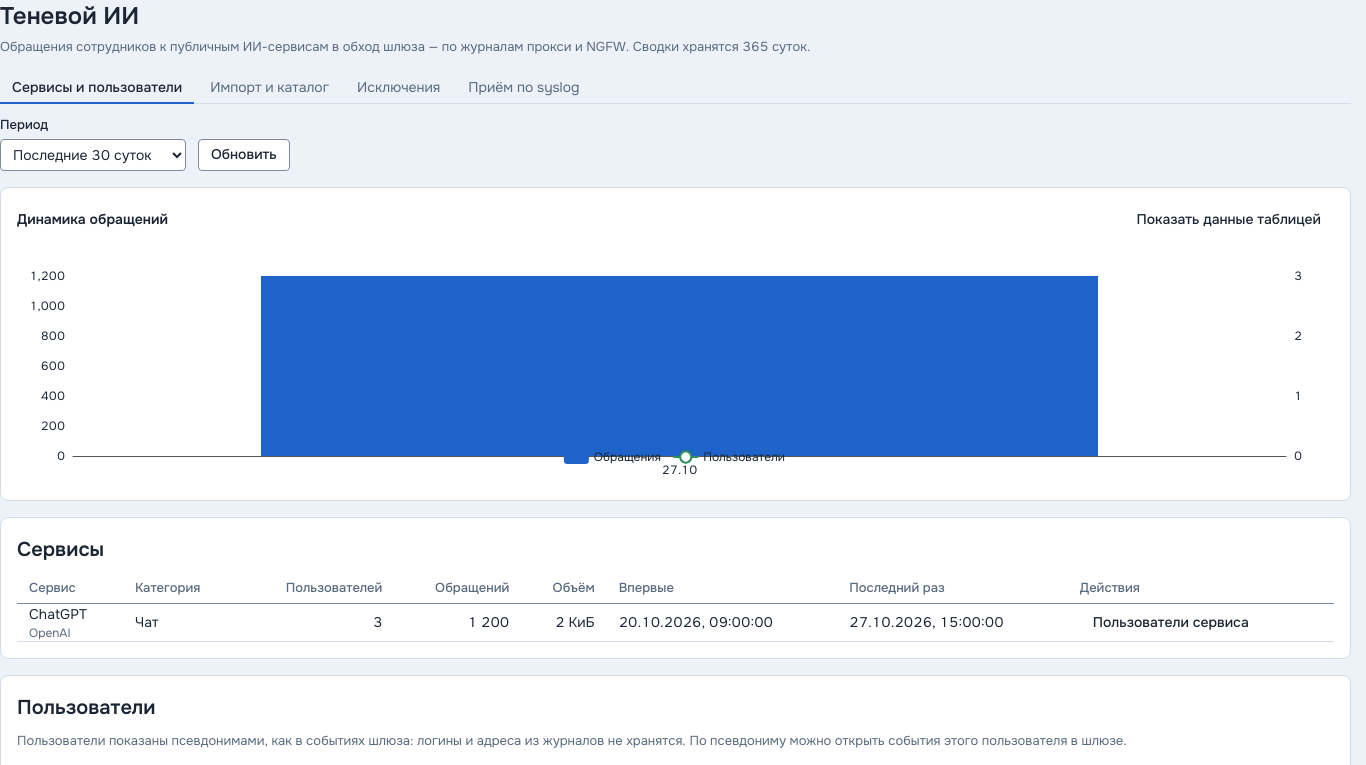
Scenario: экран «Теневой ИИ» › без права исключений нет кнопок исключения, импорт доступен
Press the mouse on the tab "Импорт и каталог" at (270, 88), box x1=198 y1=72 x2=341 y2=104
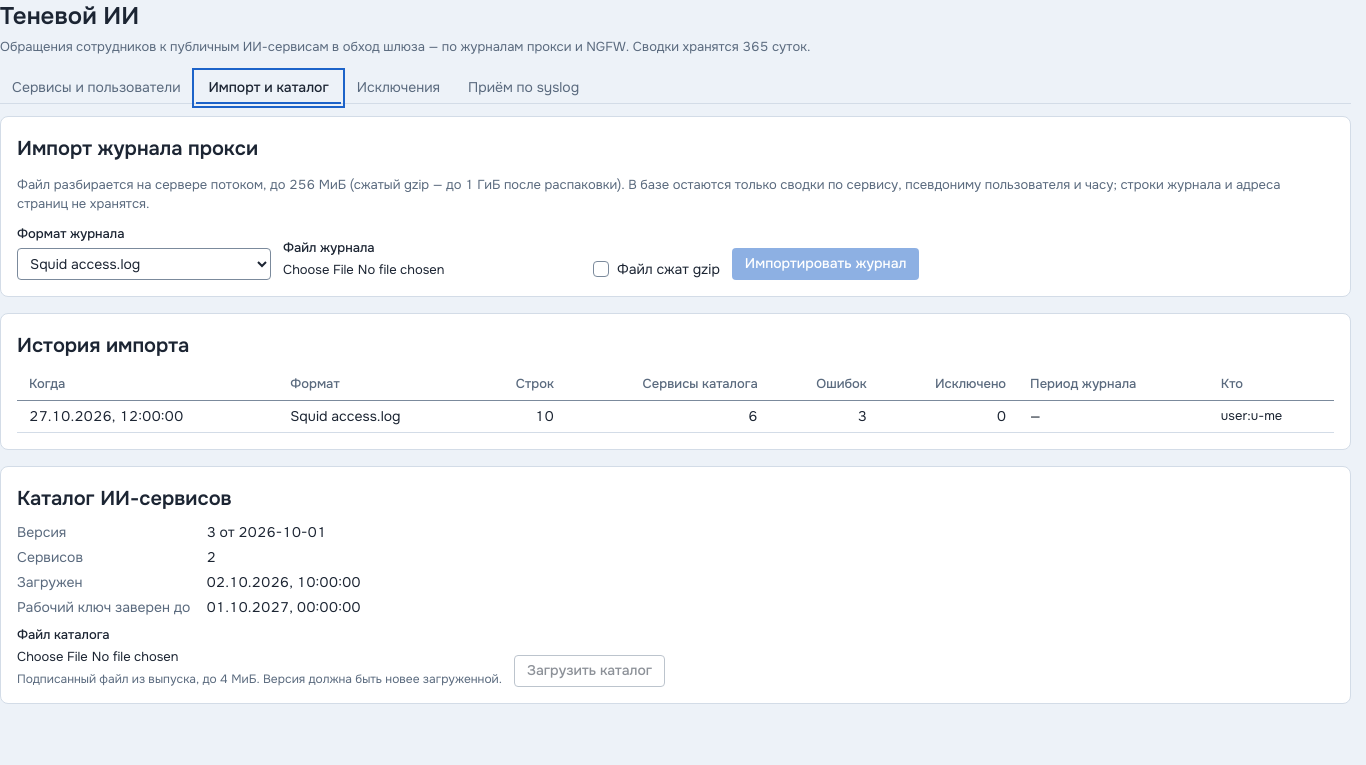
Now the button "Импортировать журнал" is shown, box x1=732 y1=248 x2=919 y2=280
Press the mouse on the tab "Исключения" at (398, 88), box x1=345 y1=72 x2=452 y2=104
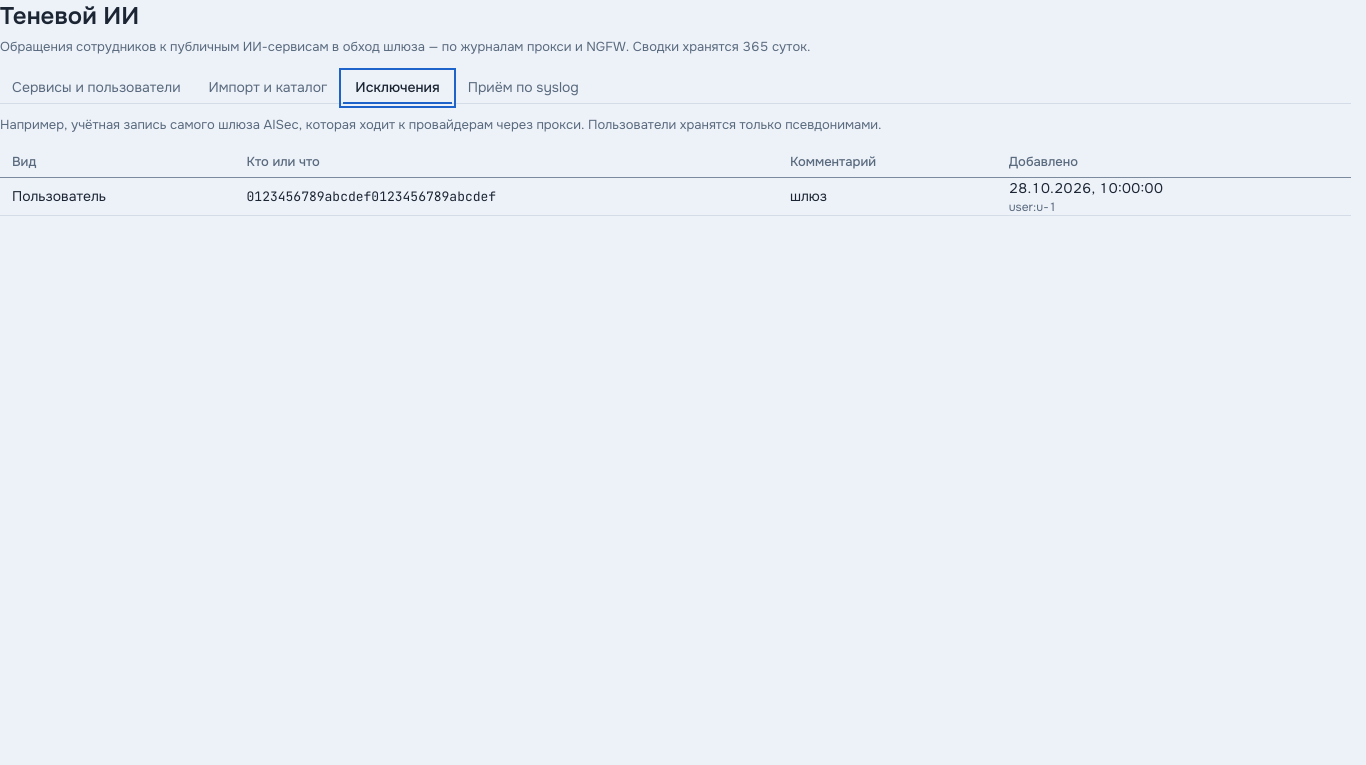
Now the text "шлюз" is shown, box x1=778 y1=178 x2=997 y2=216
